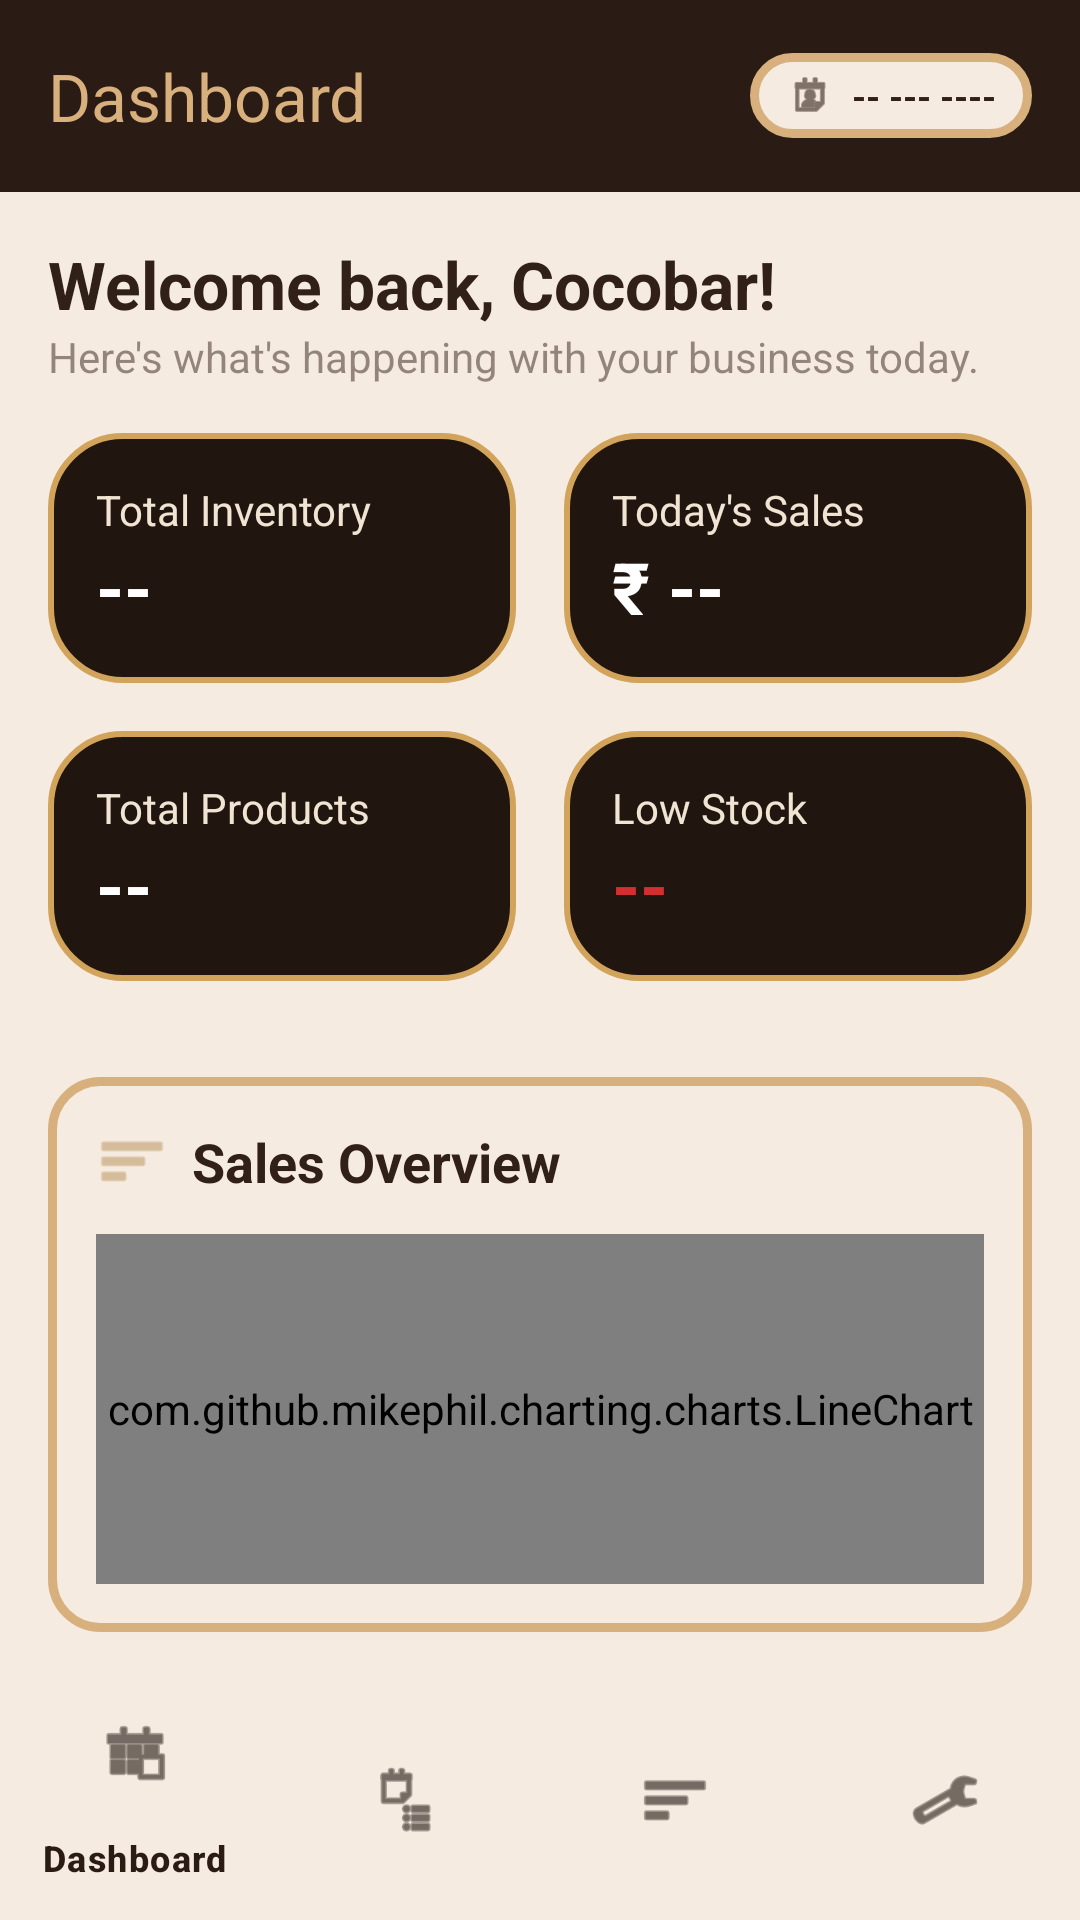

Point at icon controls on the screen. Image size 1080 x 1920, points as (x=x, y=y).
calendar: (x=810, y=94)
